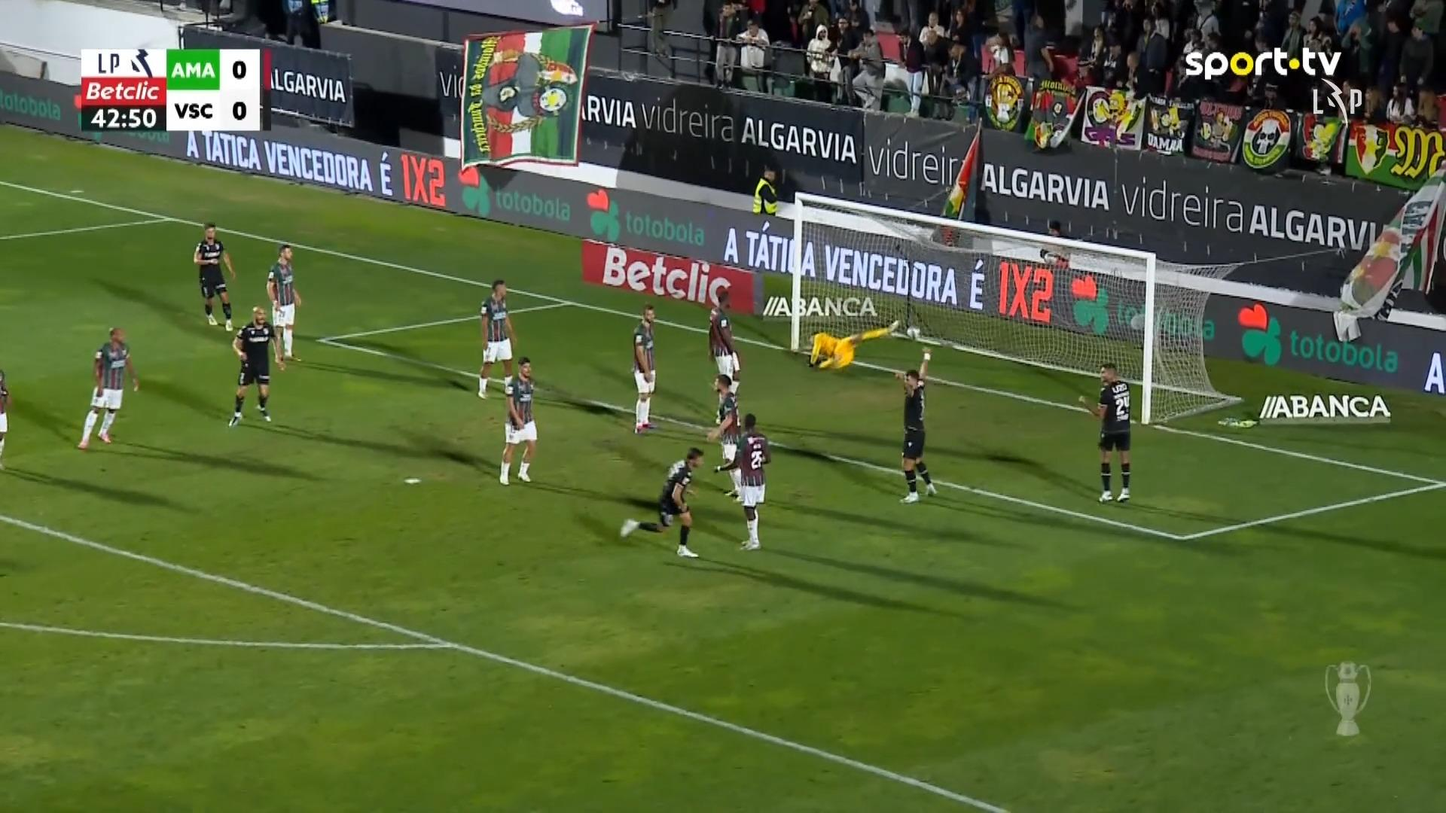ball: (906, 326, 920, 340)
goalkeeper: (806, 318, 901, 371)
player: (619, 446, 705, 559), (1077, 362, 1133, 503), (76, 325, 139, 449), (227, 305, 285, 427), (893, 349, 938, 504), (498, 355, 538, 485), (734, 413, 771, 550), (476, 279, 517, 399), (706, 288, 741, 425), (193, 221, 236, 331), (706, 373, 742, 498), (265, 243, 302, 361), (630, 303, 658, 434), (0, 368, 11, 470)
